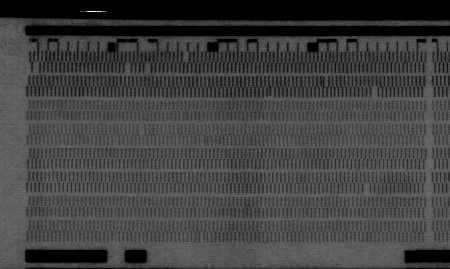Broken hole: (121, 62, 133, 76), (361, 181, 373, 195), (30, 62, 43, 74), (180, 51, 191, 65), (136, 124, 147, 138), (369, 87, 381, 99), (142, 63, 153, 76)
Oblique printing: (319, 74, 332, 87), (264, 86, 277, 99), (197, 135, 210, 148)
